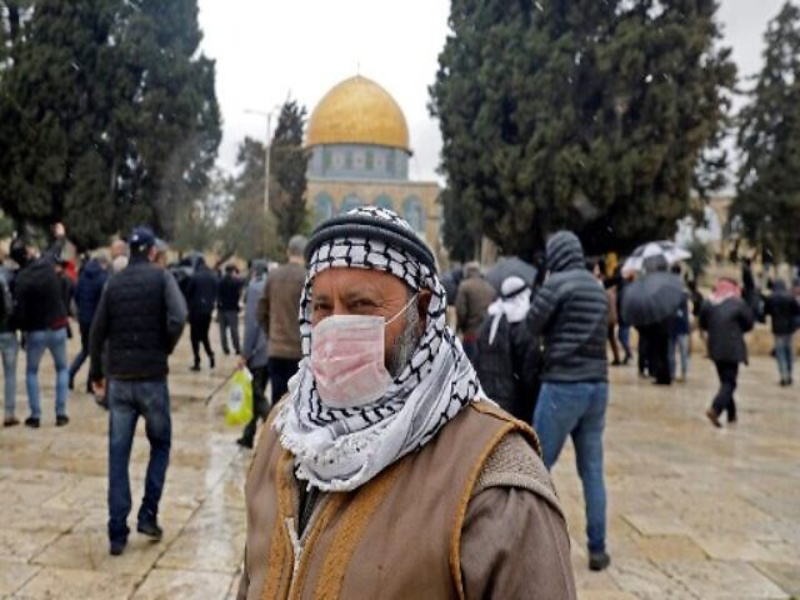ManaoArotava: (282, 208, 440, 428)
